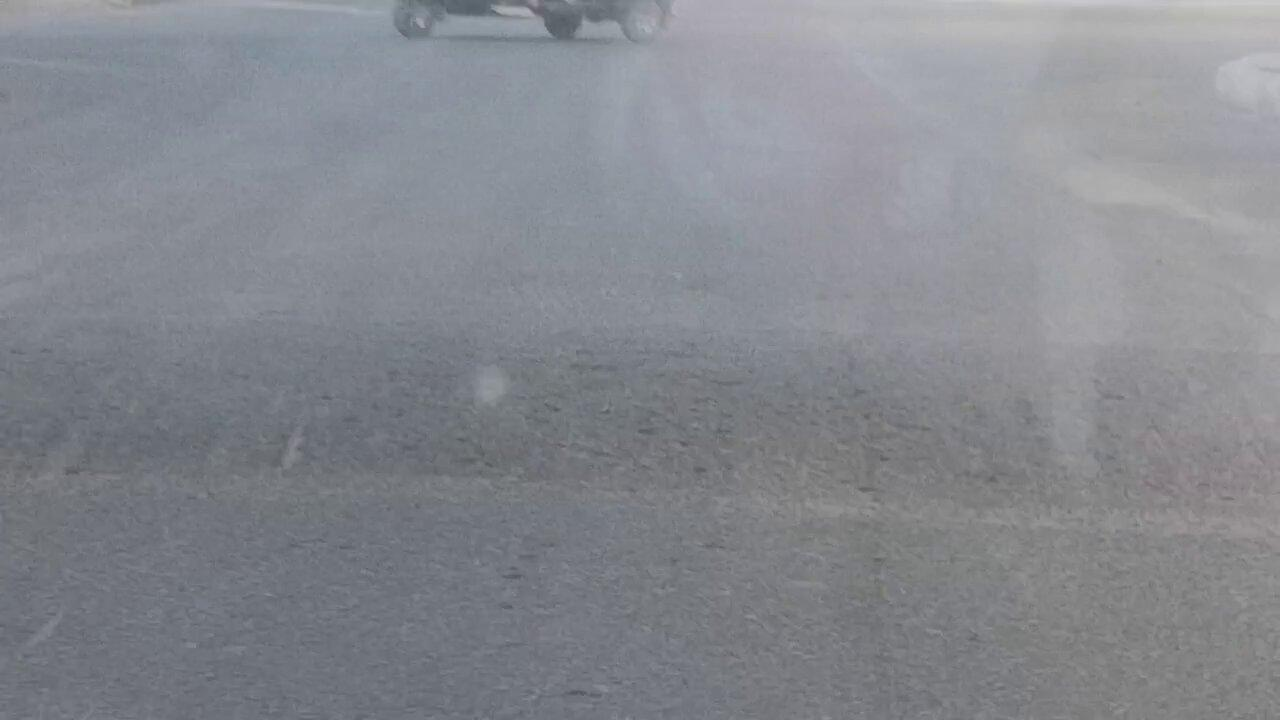Bump: (11, 463, 1279, 720)
